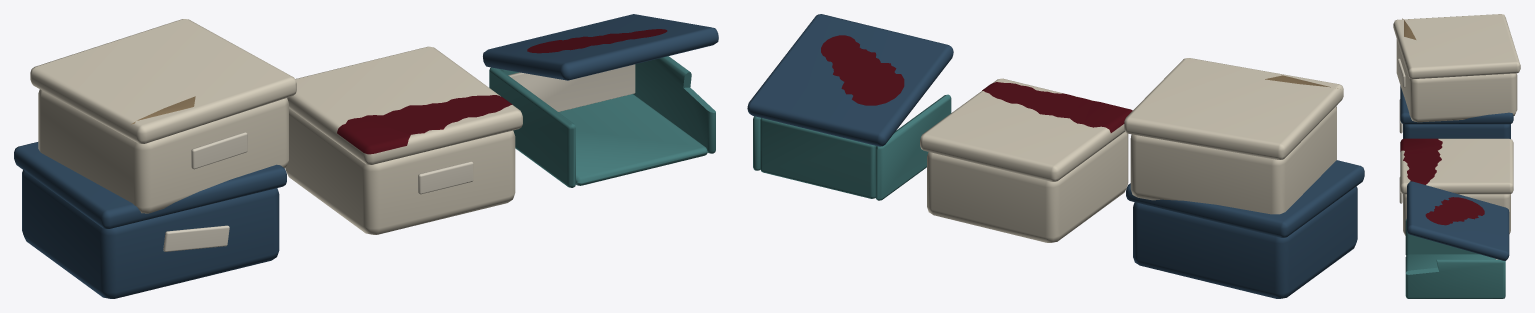
File: storage_bins.glb
3 views of the same model, side by side, from view 1: azimuth 30°, elevation 25°; view 2: azimuth 150°, elevation 25°; view 3: azimuth 270°, elevation 25° (orthographic). The views are drawn at different scales.
Parts seen in each view (by area): view 1: OB_StorageBins_01_Static; view 2: OB_StorageBins_01_Static; view 3: OB_StorageBins_01_Static.
Part boxes in pixels (x1,y1,x2,y2): OB_StorageBins_01_Static: (14,14,718,298); OB_StorageBins_01_Static: (747,14,1364,298); OB_StorageBins_01_Static: (1393,14,1520,298).
Size of the model in its own units: 1.05 by 0.285 by 0.305.
